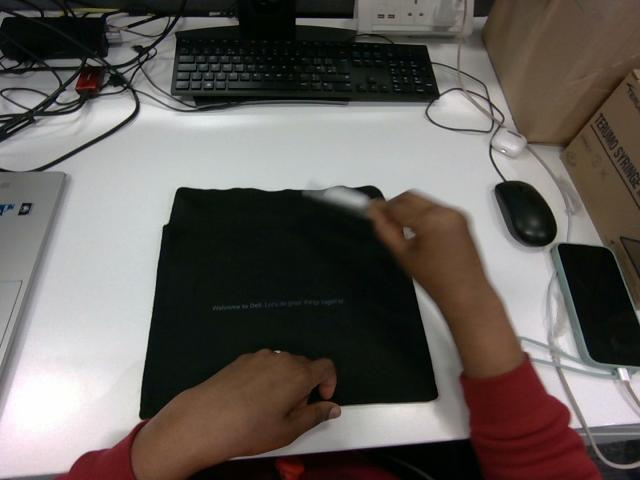gauze: (303, 186, 370, 216)
